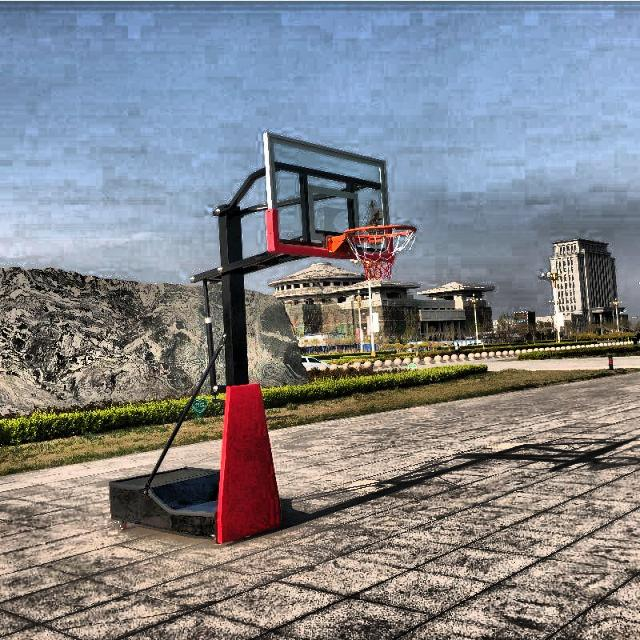rim: (346, 227, 415, 281)
